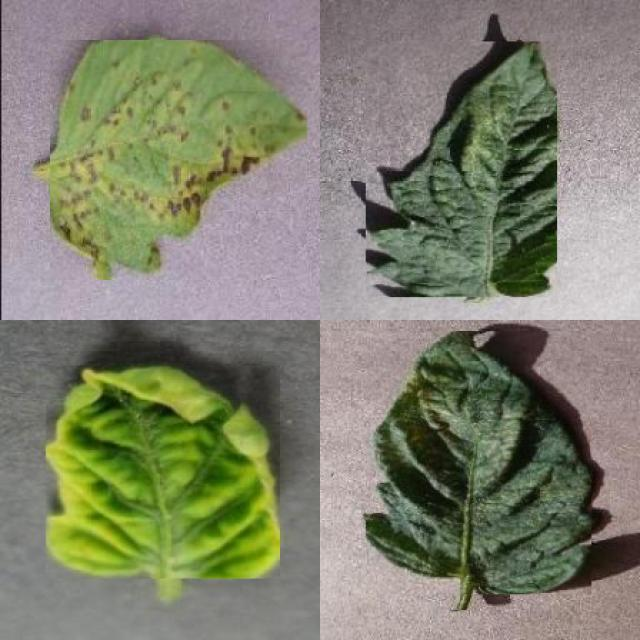Septoria: (50, 40, 307, 280)
Spider Mites: (365, 329, 592, 594), (366, 42, 557, 297)
Yellow Leaf Curl Virus: (46, 366, 280, 578)
